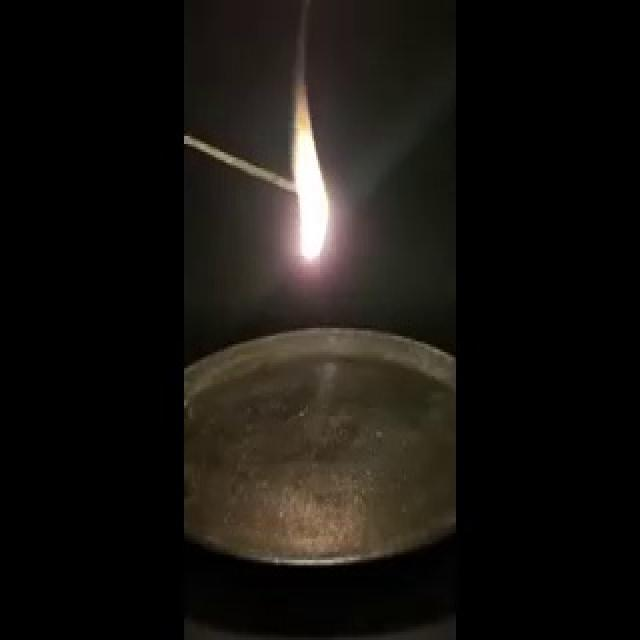fire: (288, 105, 346, 276)
